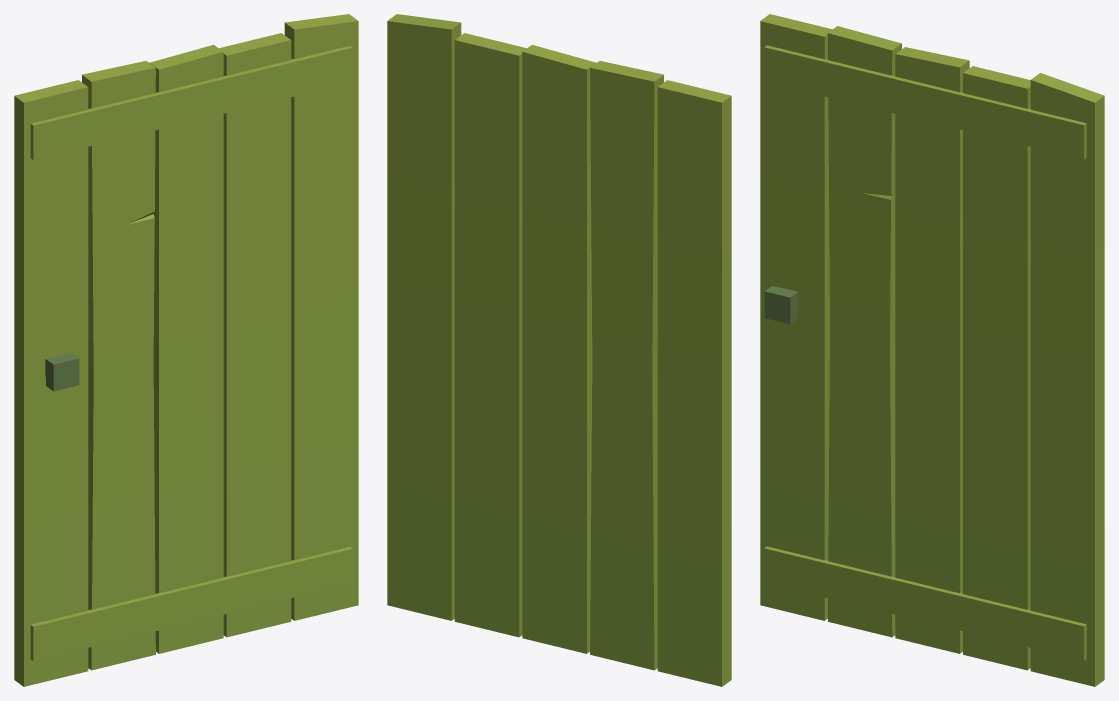
The model's file is Toilet_02.fbx.
The picture shows the model from 3 angles, left to right: view 1: azimuth 30°, elevation 25°; view 2: azimuth 150°, elevation 25°; view 3: azimuth 330°, elevation 25°; orthographic projection.
Parts seen in each view (by area): view 1: Toilet_02; view 2: Toilet_02; view 3: Toilet_02.
Part boxes in pixels (<box>): Toilet_02: <box>14,14,358,686</box>; Toilet_02: <box>387,14,731,686</box>; Toilet_02: <box>760,14,1104,686</box>.
Size of the model in its own units: 1.2 by 2.02 by 0.1386.
